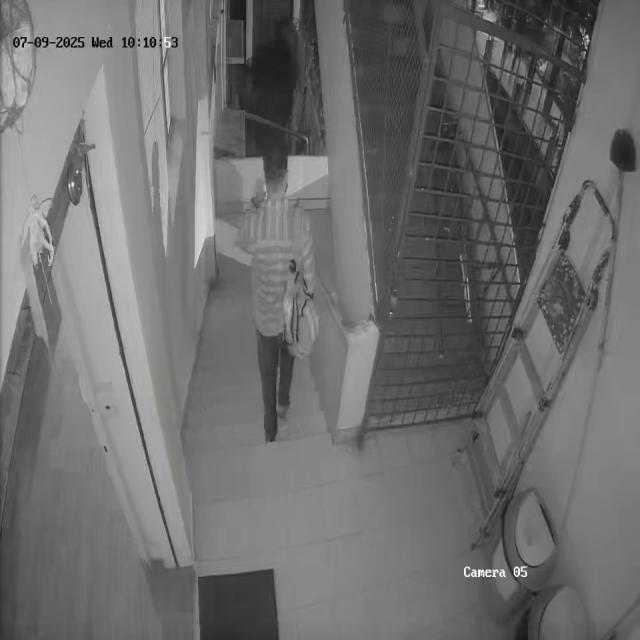person: (236, 145, 320, 440)
